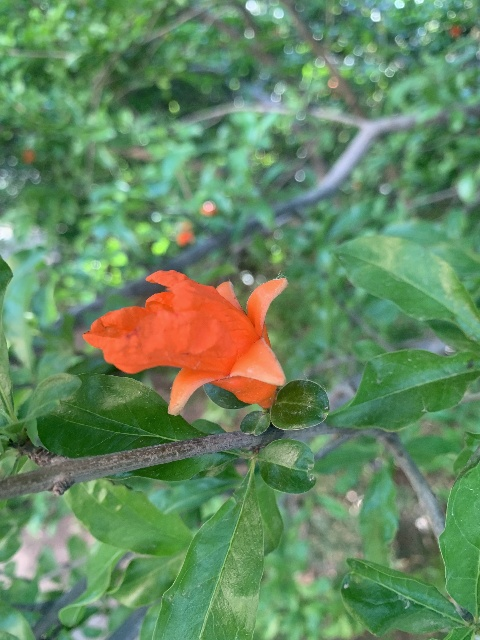flower: (84, 267, 287, 414)
